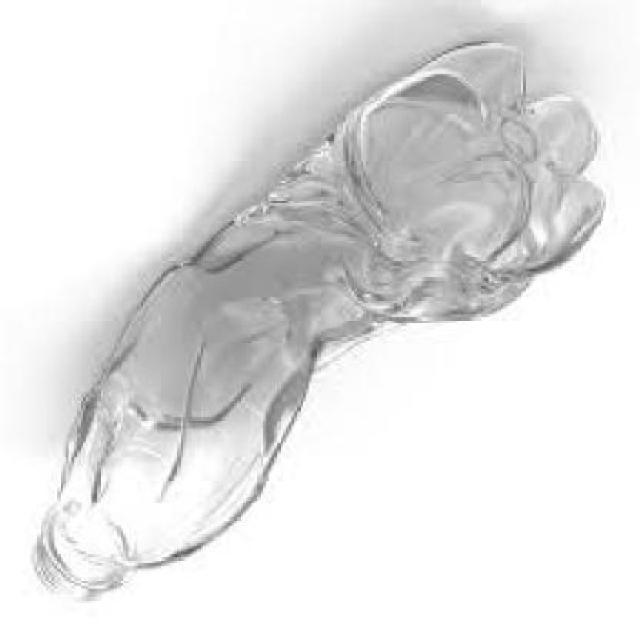plastic: (28, 46, 603, 609)
